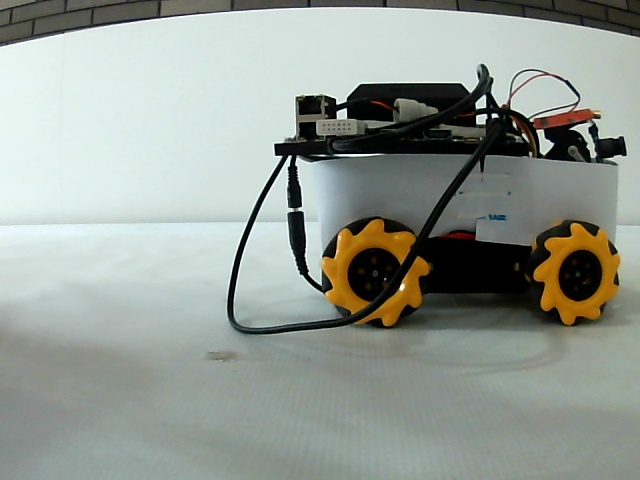car: (274, 83, 624, 328)
paper: (313, 161, 618, 218)
